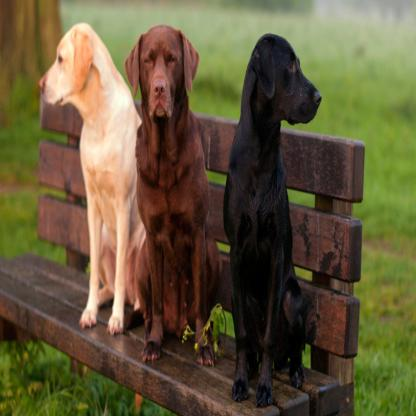dog: (220, 36, 325, 407), (37, 24, 141, 334), (123, 23, 211, 373)
